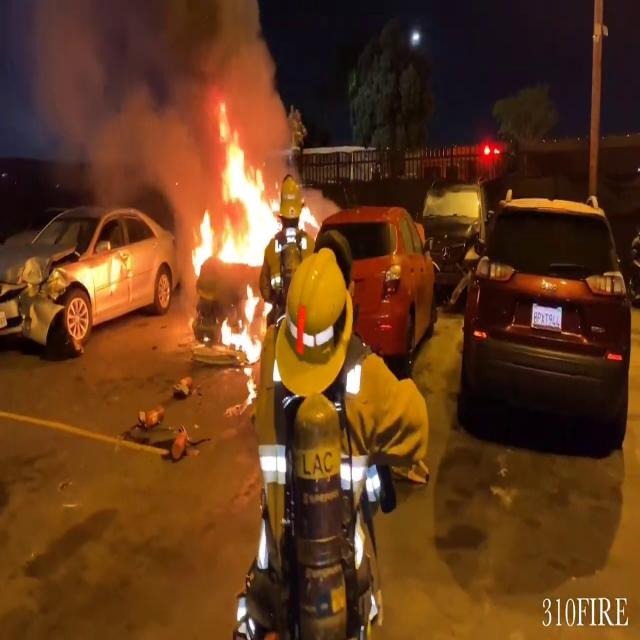Fire: (182, 99, 286, 276), (218, 281, 266, 394)
Smoke: (1, 0, 294, 183)
